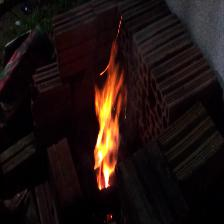fire: (82, 24, 158, 199)
